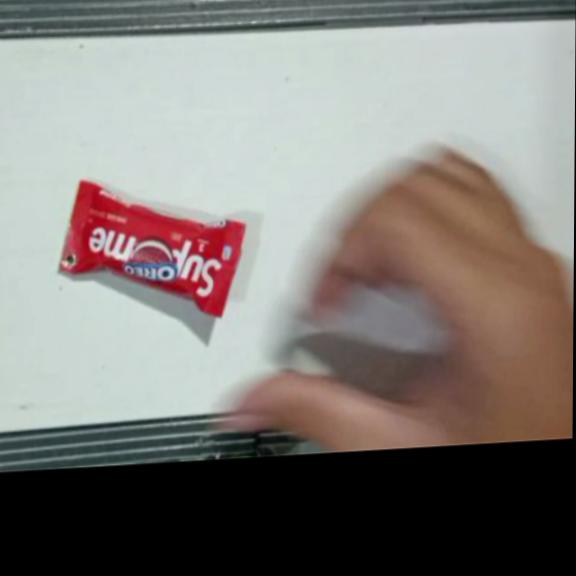Plastik: (58, 171, 246, 328)
